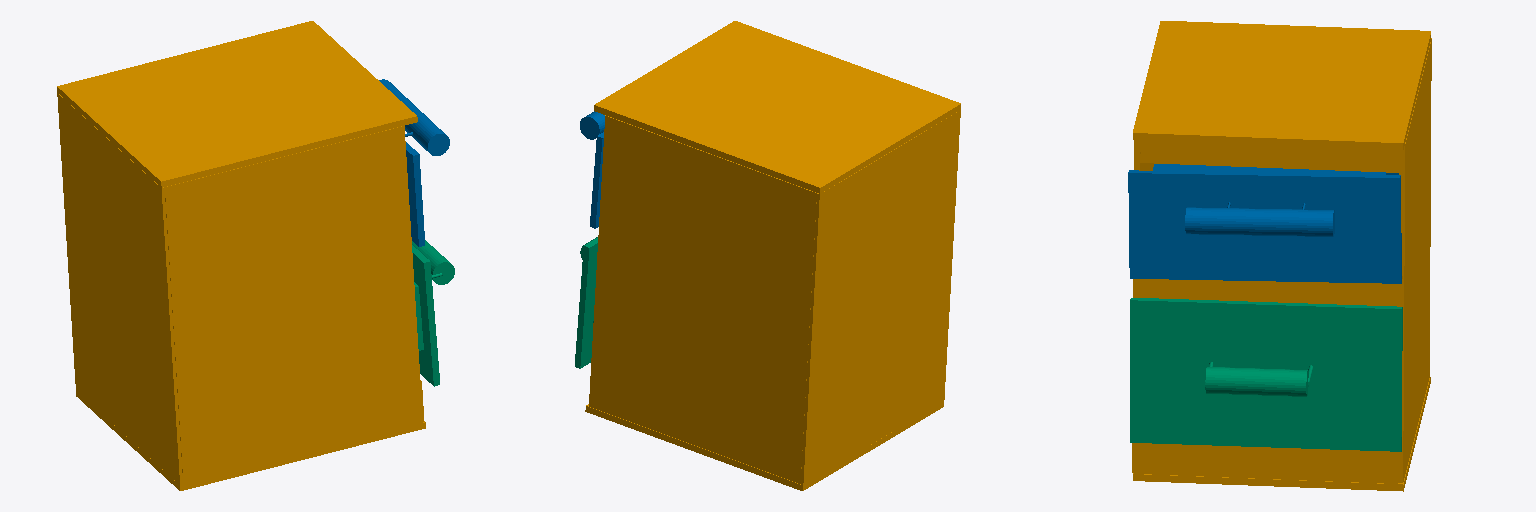
URDF robot description (ikeasmall):
<?xml version="1.0"?>
<robot name="ikeasmall">
  <link name ="rb0">
    <visual>
      <origin xyz='0.365970 0.123400 -0.462693' rpy='-0.000000 -0.061733 -0.091336'/>
      <geometry>
        <mesh filename="package://articulated_objects_db/data/objects/ikeasmall/meshes/ikeasmall_base.obj"  scale="1 1 1" />
      </geometry>
    </visual>
  </link>
  <joint name="j_0_1" type="prismatic">
    <parent link="rb0"/>
    <child link="rb1"/>
    <origin xyz="0.349923420025 -0.109281488364 -0.266262001081" rpy="0 0 0 "/>
    <axis xyz="0.994444649275 -0.0624923709703 0.0847026746844"/>
    <limit effort="30" velocity="1.0" lower="-3.1416" upper="3.1416"/>
  </joint>
  <joint name="j_0_fixed" type="fixed">
    <parent link="rb1"/>
    <child link="rb1_marker"/>
      <origin xyz="0.0 0.0 0.0" rpy="-1.58284736009 -0.0797184514662 0.0969388817322"/>
    <limit effort="30" velocity="1.0" lower="-3.1416" upper="3.1416"/>
  </joint>
  <joint name="j_0_2" type="prismatic">
    <parent link="rb0"/>
    <child link="rb2"/>
    <origin xyz="0.419878710056 0.193446882275 -0.134174019489" rpy="0 0 0 "/>
    <axis xyz="0.994785424766 -0.0675467501533 0.0764159356174"/>
    <limit effort="30" velocity="1.0" lower="-3.1416" upper="3.1416"/>
  </joint>
  <joint name="j_1_fixed" type="fixed">
    <parent link="rb2"/>
    <child link="rb2_marker"/>
      <origin xyz="0.0 0.0 0.0" rpy="-0.0843180031158 0.872323502358 0.245821828321"/>
    <limit effort="30" velocity="1.0" lower="-3.1416" upper="3.1416"/>
  </joint>
  <link name ="rb1">
  </link>
  <link name ="rb1_marker">
    <visual>
      <origin xyz='0.047580 0.036959 0.195131' rpy='1.571474 0.183522 0.000124'/>
      <geometry>
        <mesh filename="package://articulated_objects_db/data/objects/ikeasmall/meshes/ikeasmall_lower.obj"  scale="1 1 1" />
      </geometry>
    </visual>
  </link>
  <link name ="rb2">
  </link>
  <link name ="rb2_marker">
    <visual>
      <origin xyz='-0.078137 -0.083324 -0.051787' rpy='0.527146 -0.831256 -0.614039'/>
      <geometry>
        <mesh filename="package://articulated_objects_db/data/objects/ikeasmall/meshes/ikeasmall_upper.obj"  scale="1 1 1" />
      </geometry>
    </visual>
  </link>
</robot>

--- Facts derived from the render (not from the file) ---
Views: 3 orthographic renders of the robot side by side, from view 1: azimuth 30°, elevation 25°; view 2: azimuth 150°, elevation 25°; view 3: azimuth 270°, elevation 25°.
Robot: ikeasmall — 5 links, 4 joints (2 prismatic, 2 fixed); root link rb0; default pose: every joint at zero.
Links seen in each view (by area): view 1: rb0, rb1_marker, rb2_marker; view 2: rb0, rb1_marker, rb2_marker; view 3: rb0, rb1_marker, rb2_marker.
Link boxes in pixels (box(x1,y1,x2,y2)): rb0: box(57, 21, 425, 490); rb1_marker: box(412, 240, 454, 386); rb2_marker: box(379, 79, 449, 246); rb0: box(585, 21, 960, 490); rb1_marker: box(575, 237, 597, 368); rb2_marker: box(580, 111, 604, 228); rb0: box(1132, 21, 1431, 491); rb1_marker: box(1130, 298, 1402, 451); rb2_marker: box(1128, 164, 1401, 283).
Size in the robot's own frame: 0.5198 by 0.3893 by 0.5096 metres.
3 mesh visuals loaded from 3 distinct referenced files (3 OBJ).